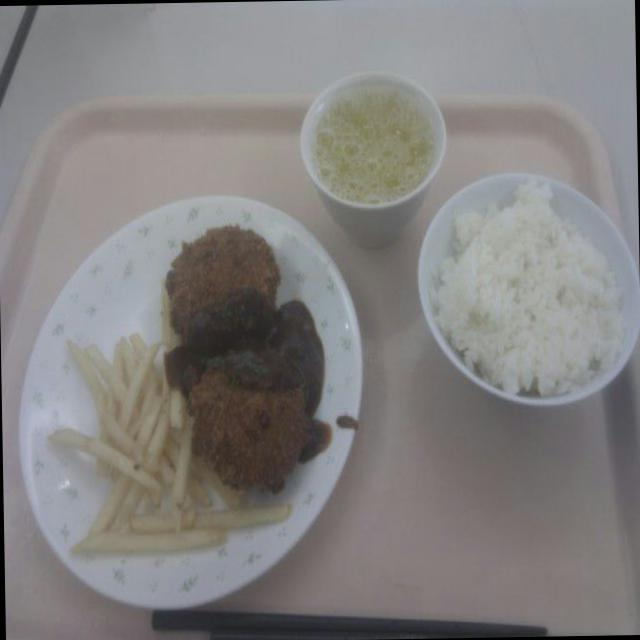Rice: (435, 185, 618, 398)
